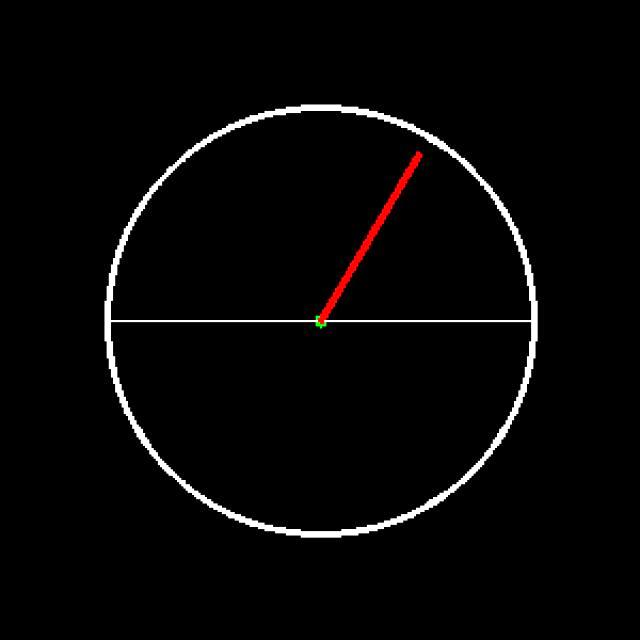Needle_Tip: (398, 138, 439, 184)
Needle_base: (285, 299, 358, 361)
